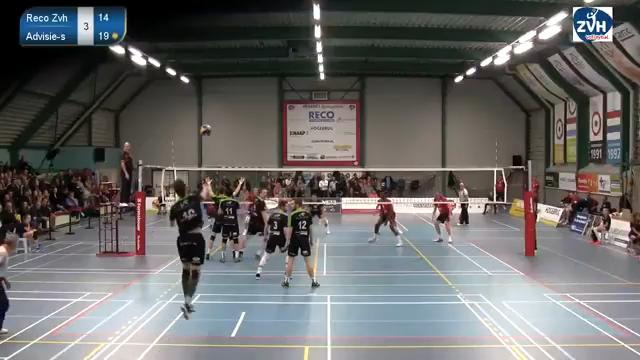battuta: (165, 176, 209, 324)
